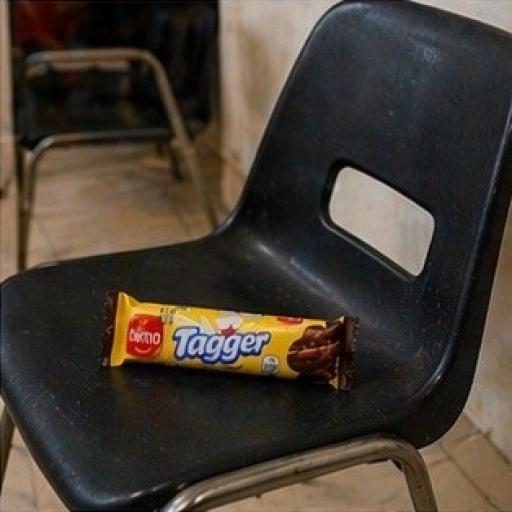tagger: (76, 241, 421, 447)
